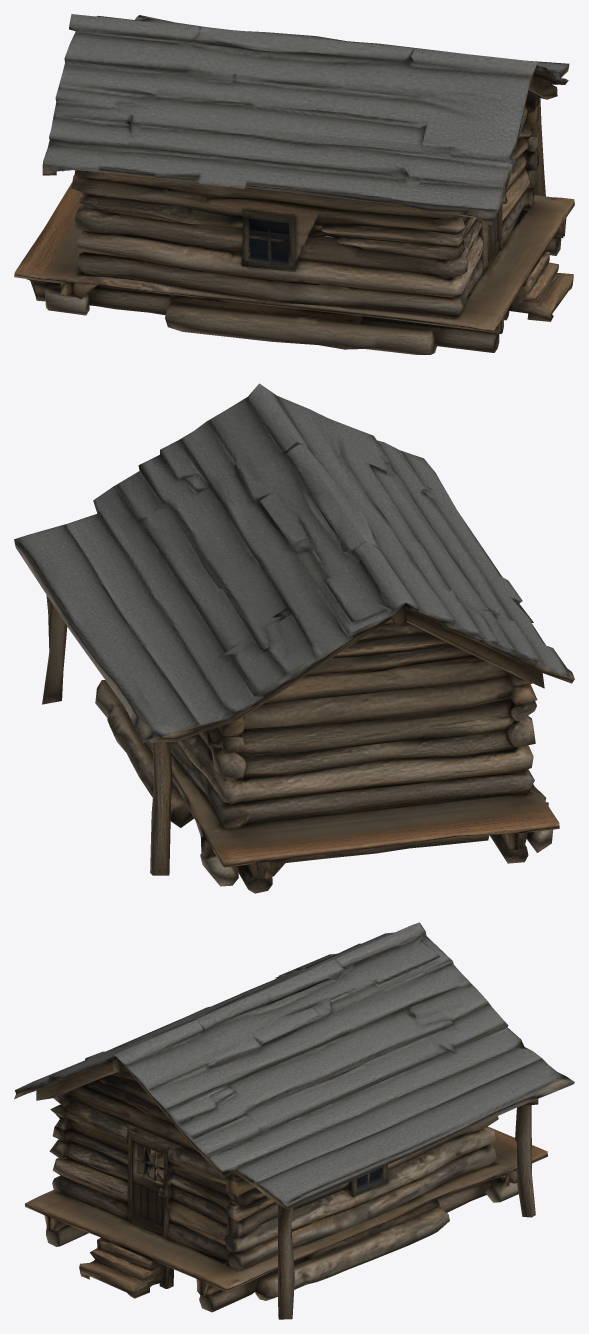
Rendered from cabin.glb.
3 views of the same model, one above another, from view 1: azimuth 30°, elevation 25°; view 2: azimuth 150°, elevation 25°; view 3: azimuth 270°, elevation 25° (orthographic). The views are drawn at different scales.
Parts seen in each view (by area): view 1: tripo_node_b8347b13-6c49-4816-8539-5408f99e6b6e; view 2: tripo_node_b8347b13-6c49-4816-8539-5408f99e6b6e; view 3: tripo_node_b8347b13-6c49-4816-8539-5408f99e6b6e.
Part boxes in pixels (x1,y1,x2,y2): tripo_node_b8347b13-6c49-4816-8539-5408f99e6b6e: [14, 14, 574, 354]; tripo_node_b8347b13-6c49-4816-8539-5408f99e6b6e: [14, 383, 574, 893]; tripo_node_b8347b13-6c49-4816-8539-5408f99e6b6e: [14, 922, 574, 1319].
Size of the model in its own units: 5.51 by 2.5 by 5.6.
Materials: 1 (1 with a texture image).
